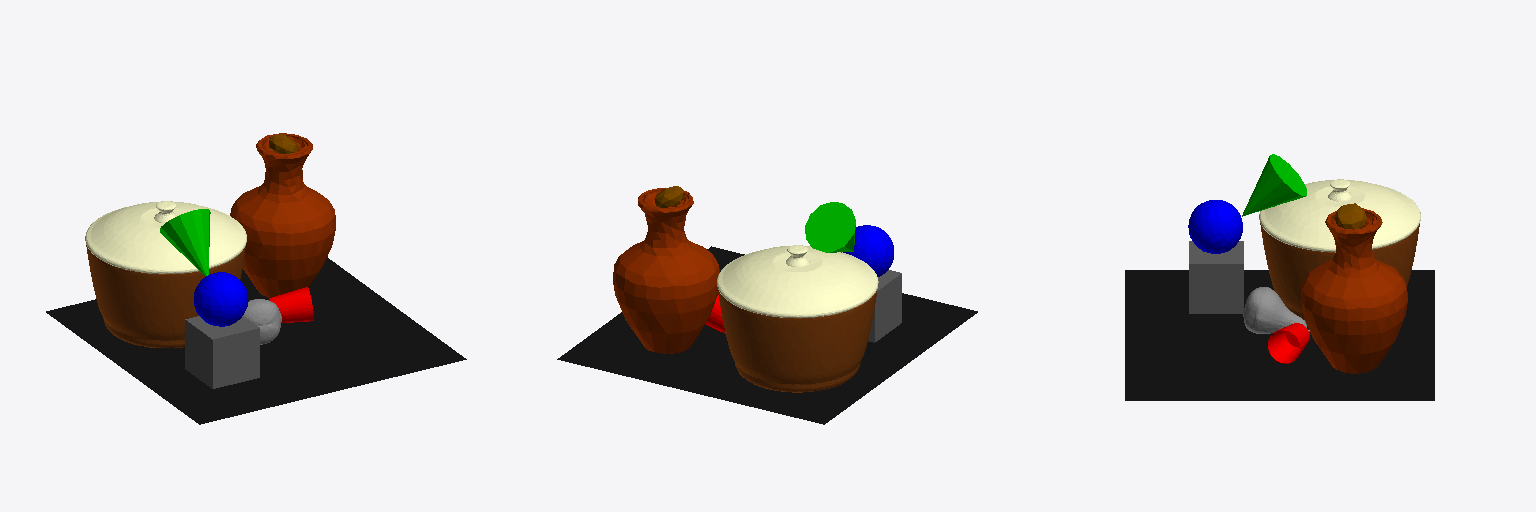
File: FinalScene.obj
3 renders of one model, left to right at view 1: azimuth 30°, elevation 25°; view 2: azimuth 150°, elevation 25°; view 3: azimuth 270°, elevation 25°, orthographic.
Visible parts, largest first — view 1: plane_Plane_Plane.001, pot_pot_and_lid, vase, cube_Cube.001, sphere_Sphere, cone_Cone, pearGreen_pear, cup_Cylinder_Cylinder.003; view 2: pot_pot_and_lid, plane_Plane_Plane.001, vase, cone_Cone, cube_Cube.001, sphere_Sphere; view 3: plane_Plane_Plane.001, vase, pot_pot_and_lid, cube_Cube.001, sphere_Sphere, cone_Cone, pearGreen_pear, cup_Cylinder_Cylinder.003, potato_Icosphere.002.
Part boxes in pixels (bbox=[...]): plane_Plane_Plane.001: bbox=[46, 257, 466, 424]; pot_pot_and_lid: bbox=[85, 201, 246, 347]; vase: bbox=[230, 133, 335, 297]; cube_Cube.001: bbox=[185, 316, 259, 388]; sphere_Sphere: bbox=[194, 272, 248, 326]; cone_Cone: bbox=[160, 209, 210, 276]; pearGreen_pear: bbox=[243, 299, 281, 344]; cup_Cylinder_Cylinder.003: bbox=[269, 287, 313, 322]; pot_pot_and_lid: bbox=[717, 245, 878, 392]; plane_Plane_Plane.001: bbox=[557, 246, 977, 424]; vase: bbox=[613, 188, 719, 353]; cone_Cone: bbox=[805, 202, 855, 252]; cube_Cube.001: bbox=[868, 270, 901, 342]; sphere_Sphere: bbox=[843, 225, 893, 276]; plane_Plane_Plane.001: bbox=[1125, 270, 1434, 400]; vase: bbox=[1301, 208, 1407, 373]; pot_pot_and_lid: bbox=[1259, 179, 1420, 321]; cube_Cube.001: bbox=[1189, 241, 1243, 313]; sphere_Sphere: bbox=[1188, 200, 1242, 253]; cone_Cone: bbox=[1242, 154, 1306, 216]; pearGreen_pear: bbox=[1243, 287, 1309, 333]; cup_Cylinder_Cylinder.003: bbox=[1268, 323, 1309, 363]; potato_Icosphere.002: bbox=[1334, 203, 1366, 229].
Bounding box in the file's own units: 5.62 × 3.2 × 5.62.